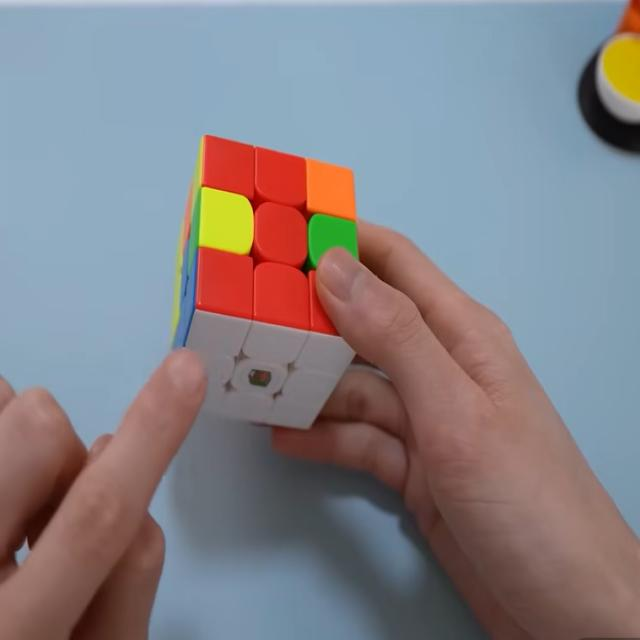Cubo-No-resuelto: (171, 134, 358, 428)
